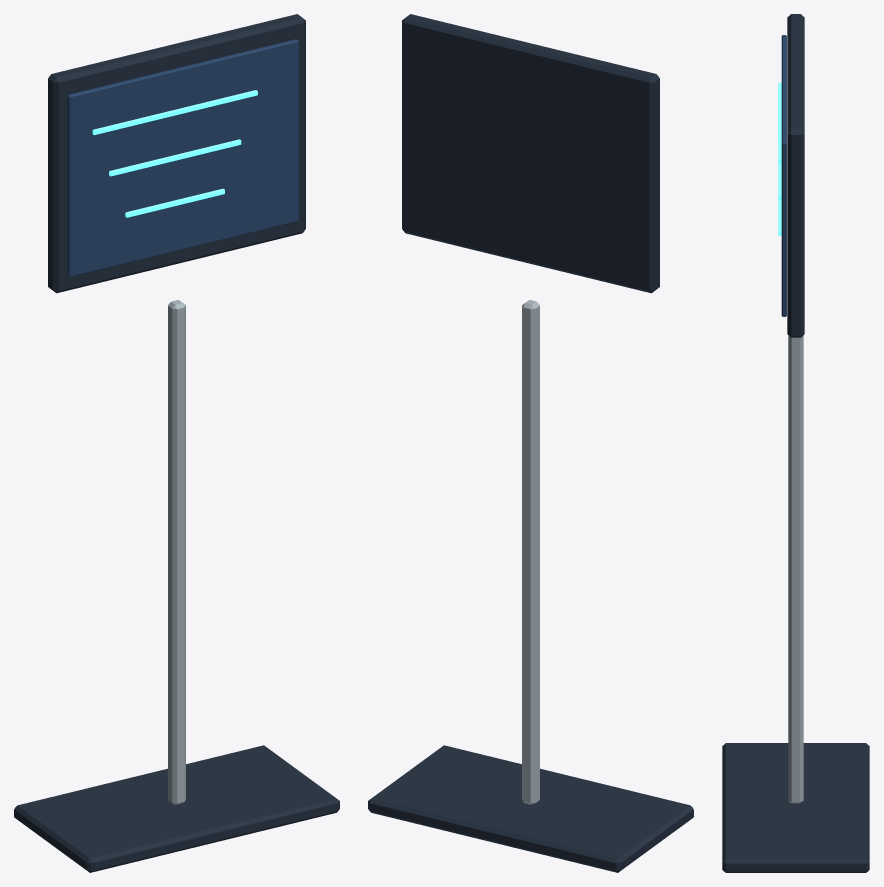
File: clinic_03.glb
3 renders of one model, left to right at view 1: azimuth 30°, elevation 25°; view 2: azimuth 150°, elevation 25°; view 3: azimuth 270°, elevation 25°, orthographic. The views are drawn at different scales.
Parts seen in each view (by area): view 1: Screen, QueueFoot, MonitorFrame, QueueStem, DisplayLine (×3); view 2: MonitorFrame, QueueFoot, QueueStem; view 3: QueueFoot, QueueStem, MonitorFrame, Screen, DisplayLine.
Boxes of the visible parts, x1,y1,x2,y2 form: Screen: (67,39,298,276); QueueFoot: (14,745,339,872); MonitorFrame: (48,14,305,293); QueueStem: (168,300,185,804); DisplayLine (×3): (92,90,257,217); MonitorFrame: (402,14,659,293); QueueFoot: (368,745,693,872); QueueStem: (522,300,539,804); QueueFoot: (722,743,869,872); QueueStem: (788,335,803,803); MonitorFrame: (787,14,804,337); Screen: (781,35,786,316); DisplayLine: (778,82,781,163).
Bounding box in the file's own units: 0.65 × 1.89 × 0.34.
